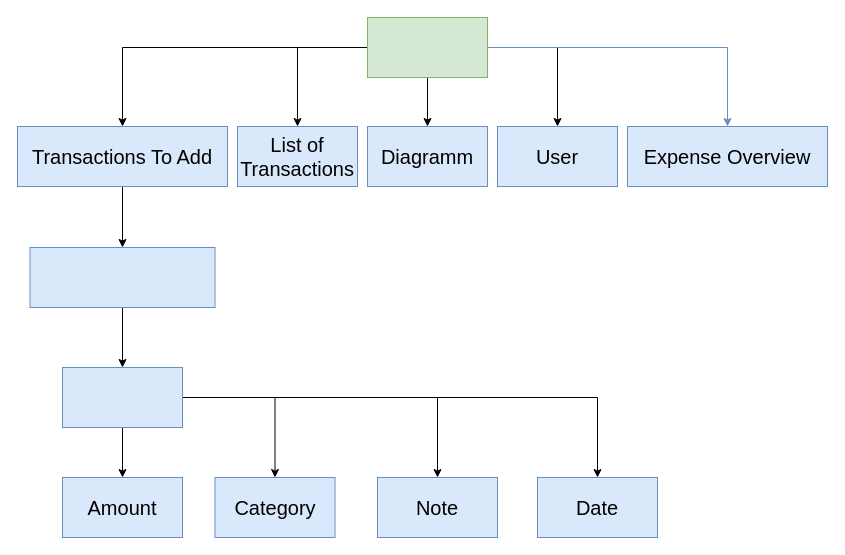
Some shapes in this 845 by 555 pixel diagram are drawn without their labels. The centre of each missing label's shape, as x and y in pixels:
"App" belongs at point (427, 47).
"Form" belongs at point (122, 397).
"New Transaction" belongs at point (122, 277).
